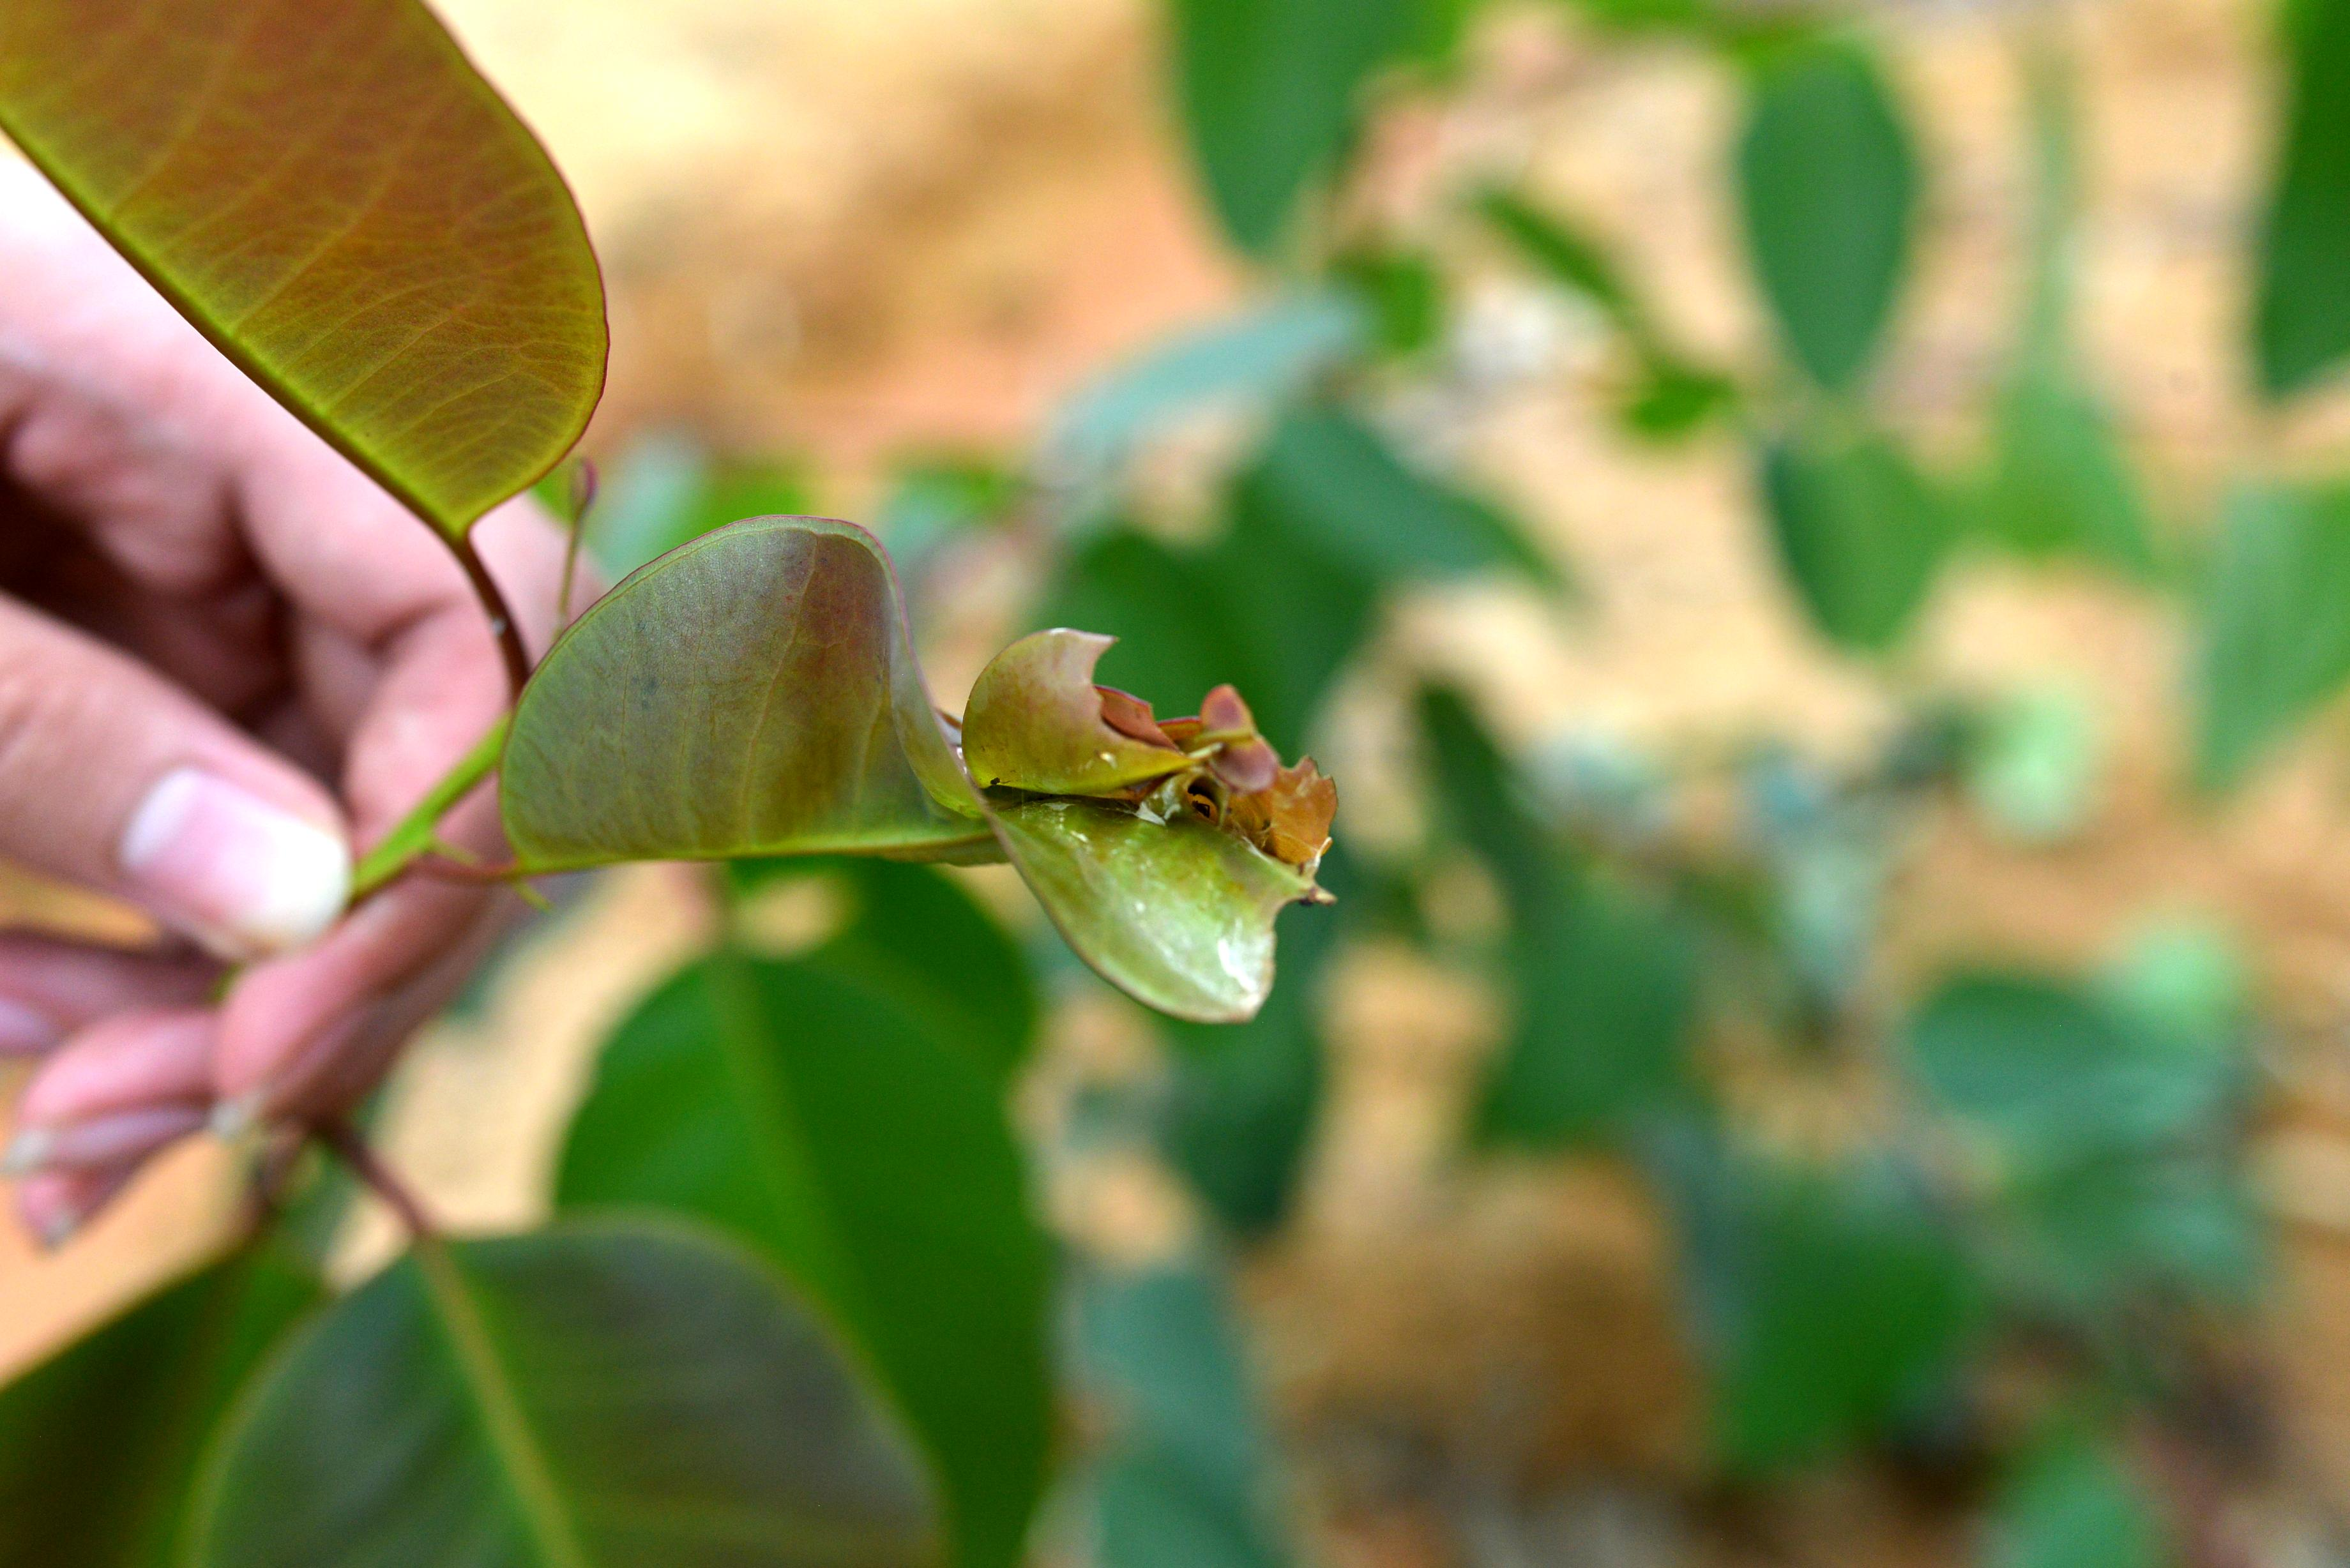Leaf Roller - Leaf: (492, 502, 941, 945), (964, 612, 1339, 1038)
